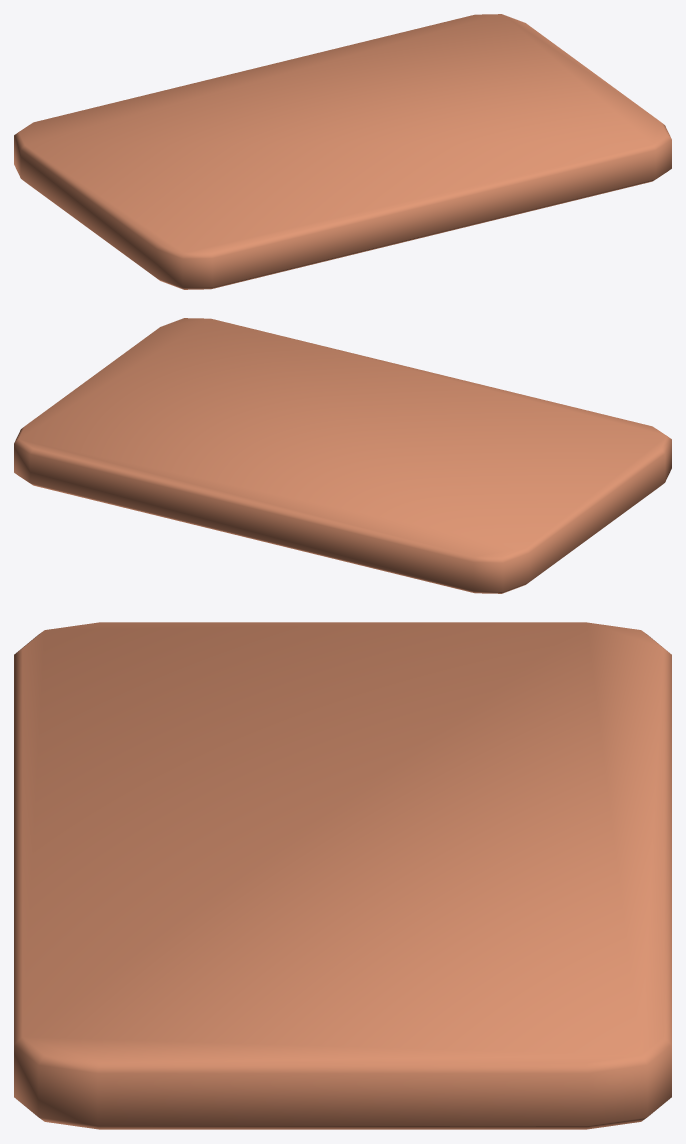
File: scene_ABHxFtusMU.glb
The picture shows the model from 3 angles, top to bottom: view 1: azimuth 30°, elevation 25°; view 2: azimuth 150°, elevation 25°; view 3: azimuth 270°, elevation 25°; orthographic projection. The views are drawn at different scales.
Parts seen in each view (by area): view 1: board_cutting_board.002_Cube.125; view 2: board_cutting_board.002_Cube.125; view 3: board_cutting_board.002_Cube.125.
Boxes of the visible parts, <box> form: board_cutting_board.002_Cube.125: <box>14,14,671,289</box>; board_cutting_board.002_Cube.125: <box>14,318,671,593</box>; board_cutting_board.002_Cube.125: <box>14,622,671,1129</box>.
Size of the model in its own units: 4.93 by 0.3423 by 3.07.
1 material, 1 textured.
